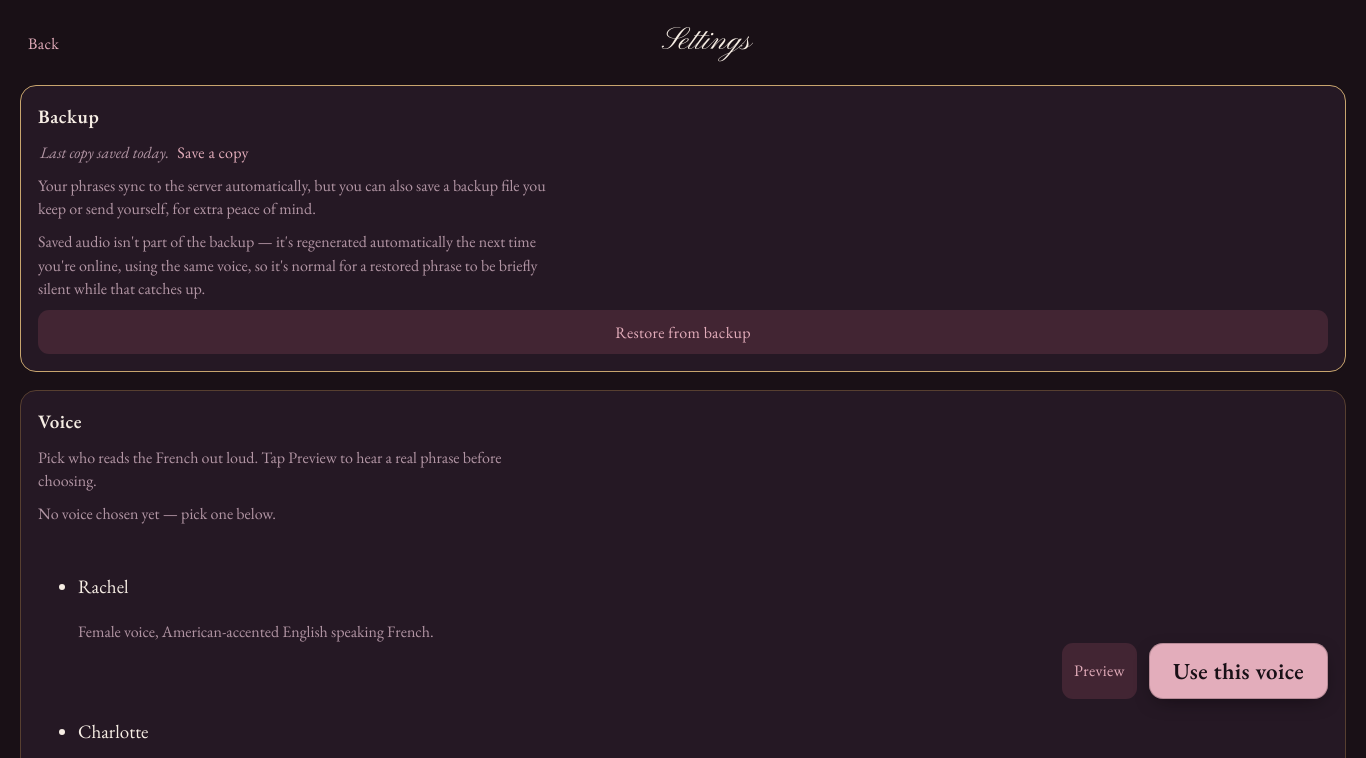
Scenario: SettingsScreen › voice picker › shows a plain-language error inline when a preview fails, without blocking the screen
This screenshot has width=1366, height=758.
Click the button with test id "voice-preview-voice-rachel" at (1100, 671), box 1062,643 -> 1137,699
(page scrolled)
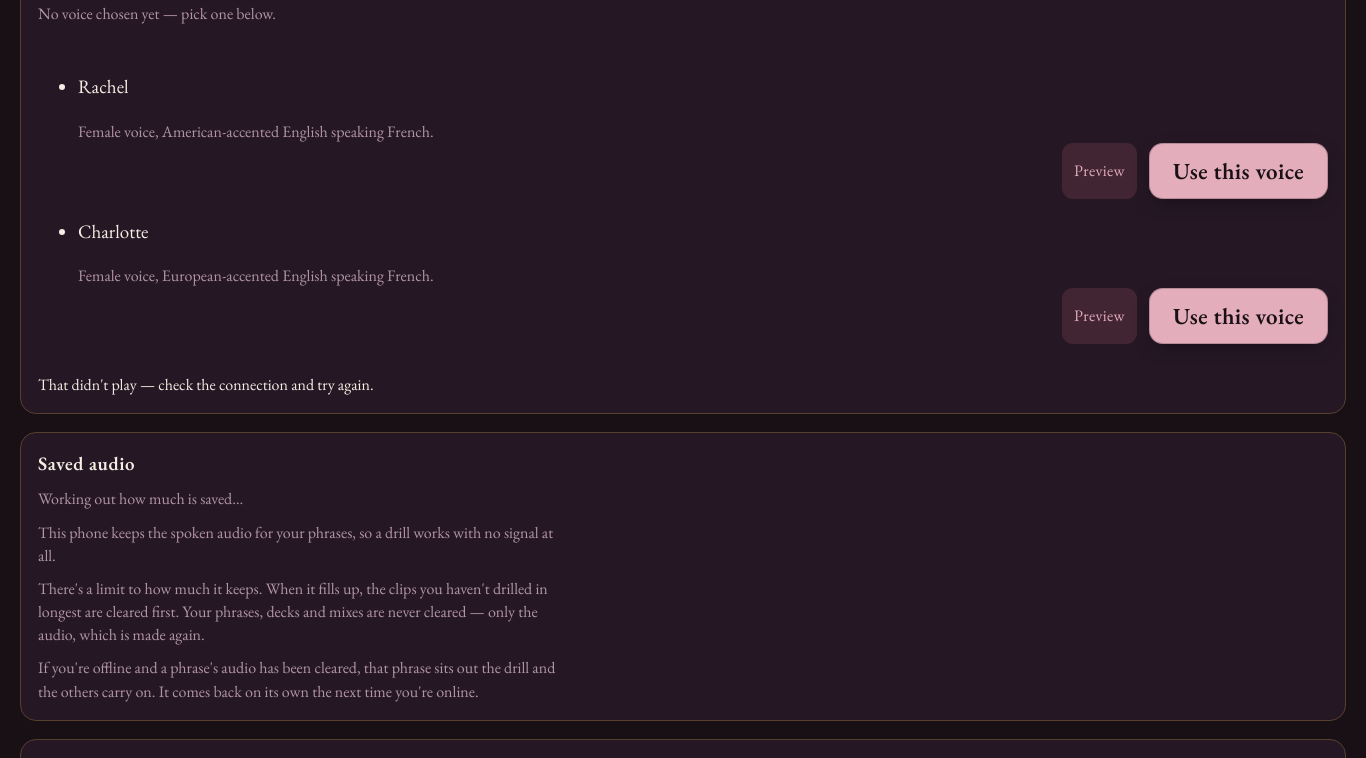
Expected: the text "That didn't play — check the connection and try again." is shown, 38,374 -> 374,395
